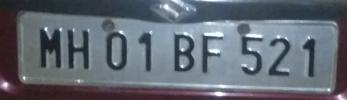0: (102, 29, 134, 73)
1: (298, 34, 320, 80), (137, 29, 156, 76)
2: (268, 35, 294, 78)
5: (239, 32, 267, 79)
B: (170, 28, 197, 75)
F: (201, 29, 227, 75)
H: (66, 25, 95, 73)
M: (36, 24, 64, 70)
